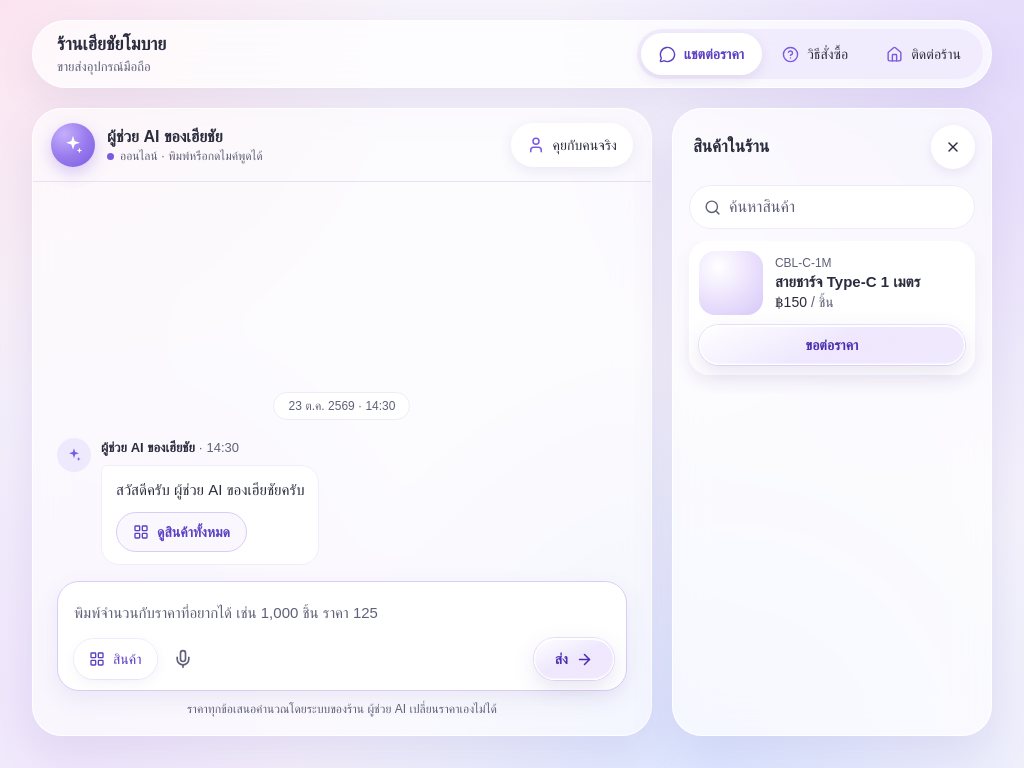
Test: ChatScreen — แชตจริง (ผ่าน API) › ไมค์ (เฟส 6) › ส่งเสียงไม่สำเร็จ → ข้อความที่พูดกลับมาอยู่ในช่องพิมพ์ ไม่หายเงียบ
The image size is (1024, 768).
Step 1. Click the button named "พูดด้วยเสียง" → (182, 659), box [162, 639, 202, 679]
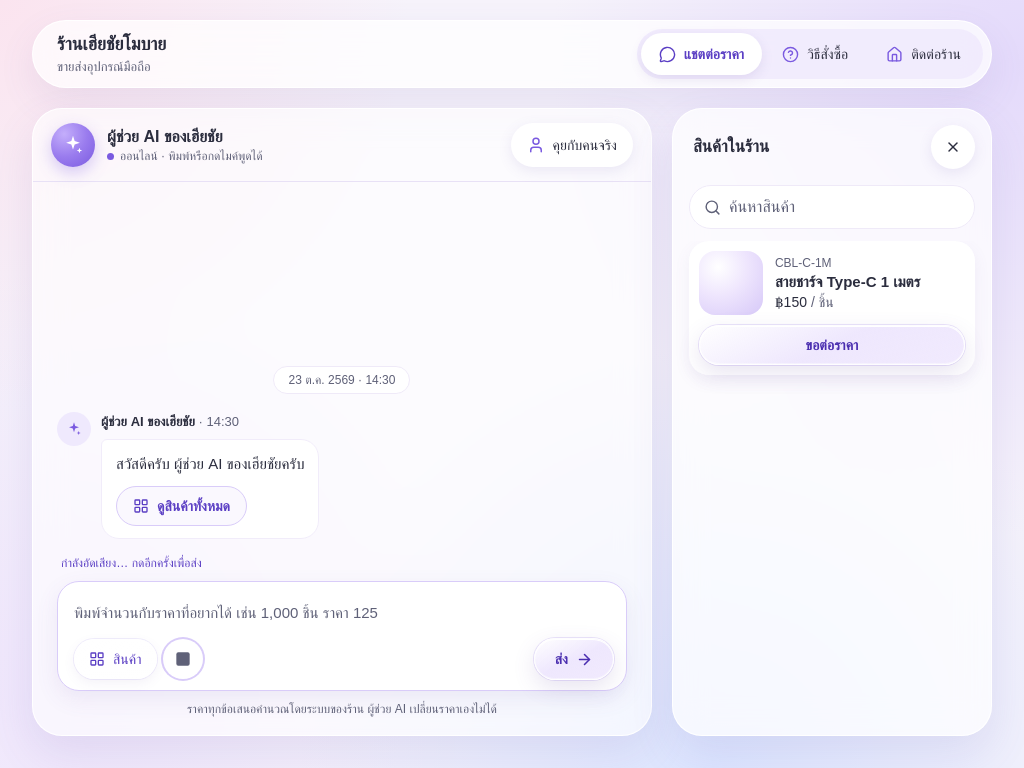
Step 2. Click the button named "หยุดและส่งเสียง" → (182, 659), box [162, 639, 202, 679]
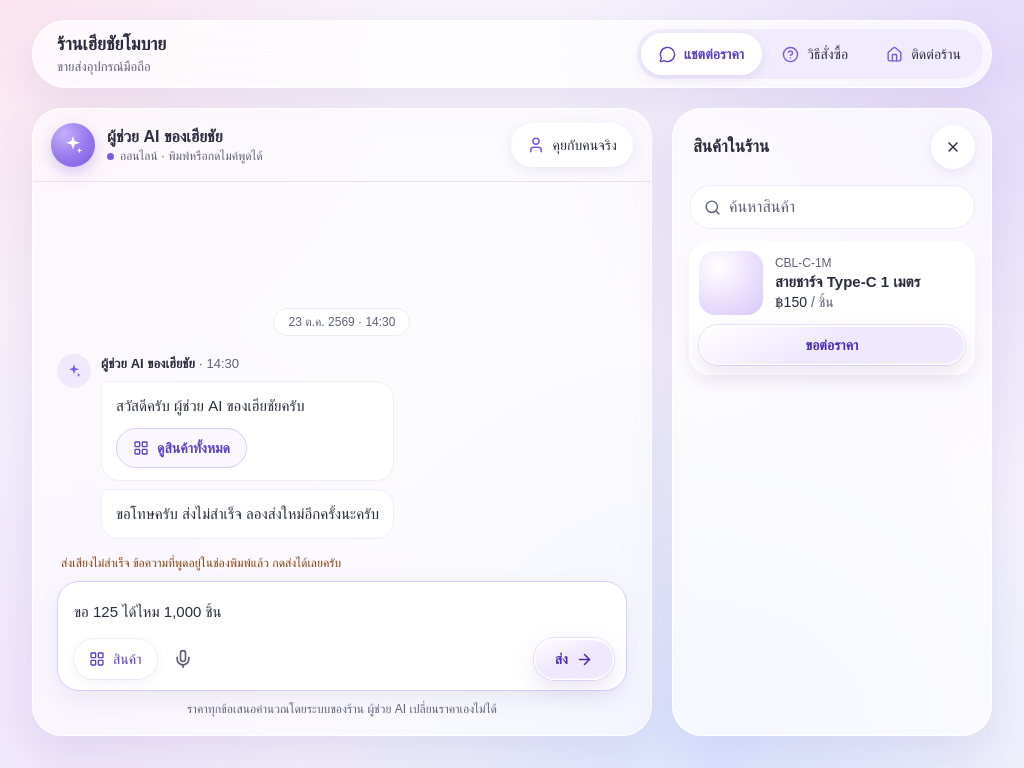
Now the field named "พิมพ์" holds "ขอ 125 ได้ไหม 1,000 ชิ้น", box [74, 594, 614, 630]
